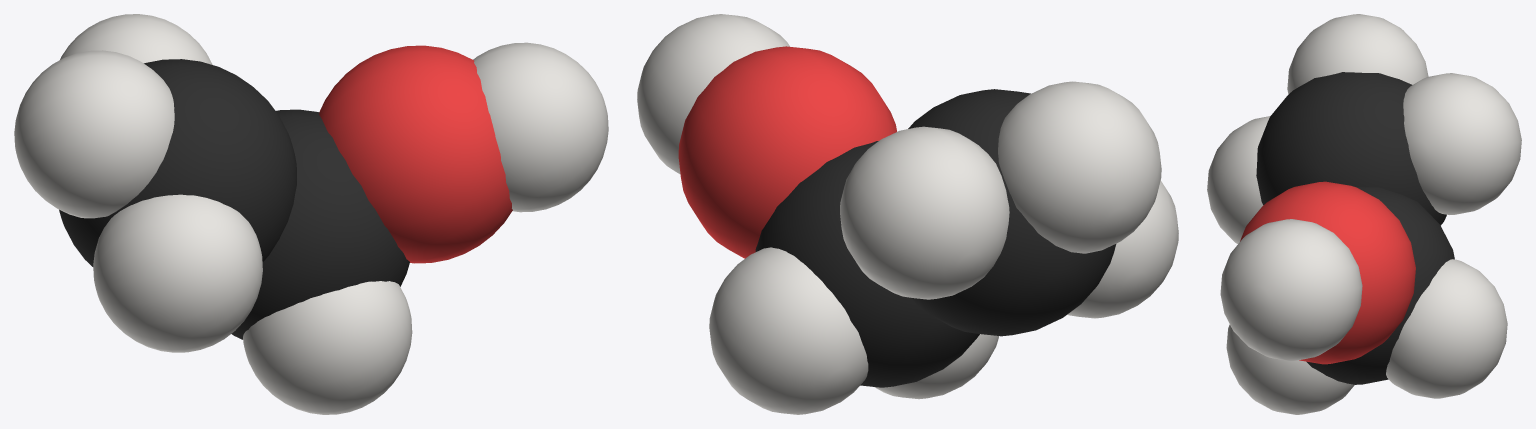
3 views of the same model, side by side, from view 1: azimuth 30°, elevation 25°; view 2: azimuth 150°, elevation 25°; view 3: azimuth 270°, elevation 25° (orthographic). The views are drawn at different scales.
Parts seen in each view (by area): view 1: C2H5OH; view 2: C2H5OH; view 3: C2H5OH.
Boxes of the visible parts, x1,y1,x2,y2 form: C2H5OH: (14, 14, 608, 414); C2H5OH: (637, 14, 1178, 414); C2H5OH: (1207, 14, 1521, 414).
Bounding box in the file's own units: 5.06 × 3.35 × 3.1.
